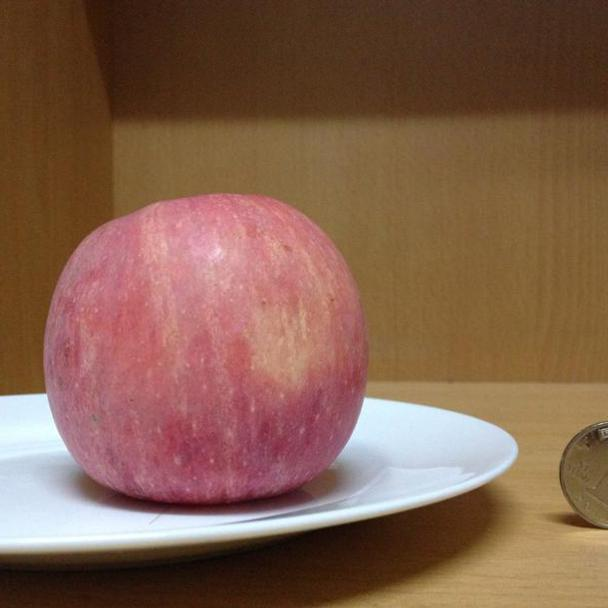apple: (44, 193, 367, 504)
